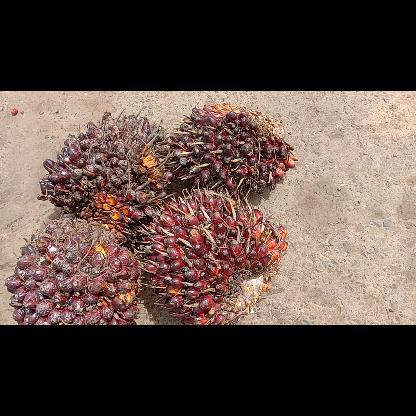Kurang masak: (136, 186, 288, 324), (34, 105, 176, 243)
TBS mentah: (4, 216, 141, 324), (168, 100, 300, 202)
